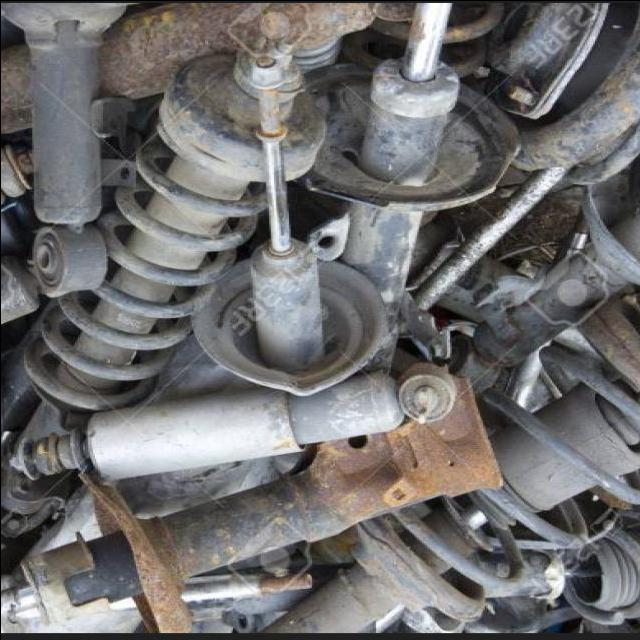shock absorber: (9, 37, 325, 448), (258, 292, 640, 631), (298, 1, 521, 370), (191, 55, 387, 394), (7, 360, 456, 480)
